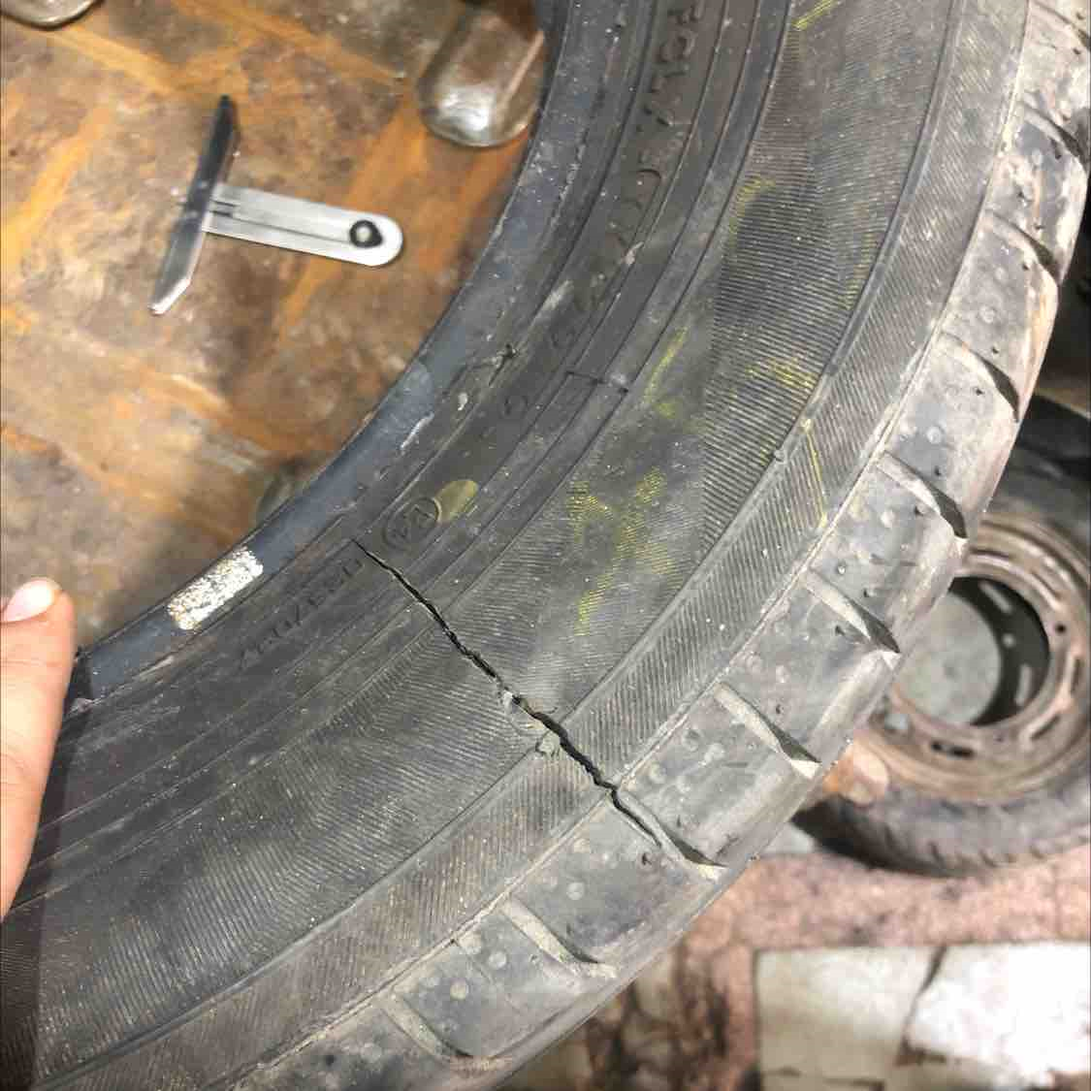cut: (346, 536, 668, 856)
